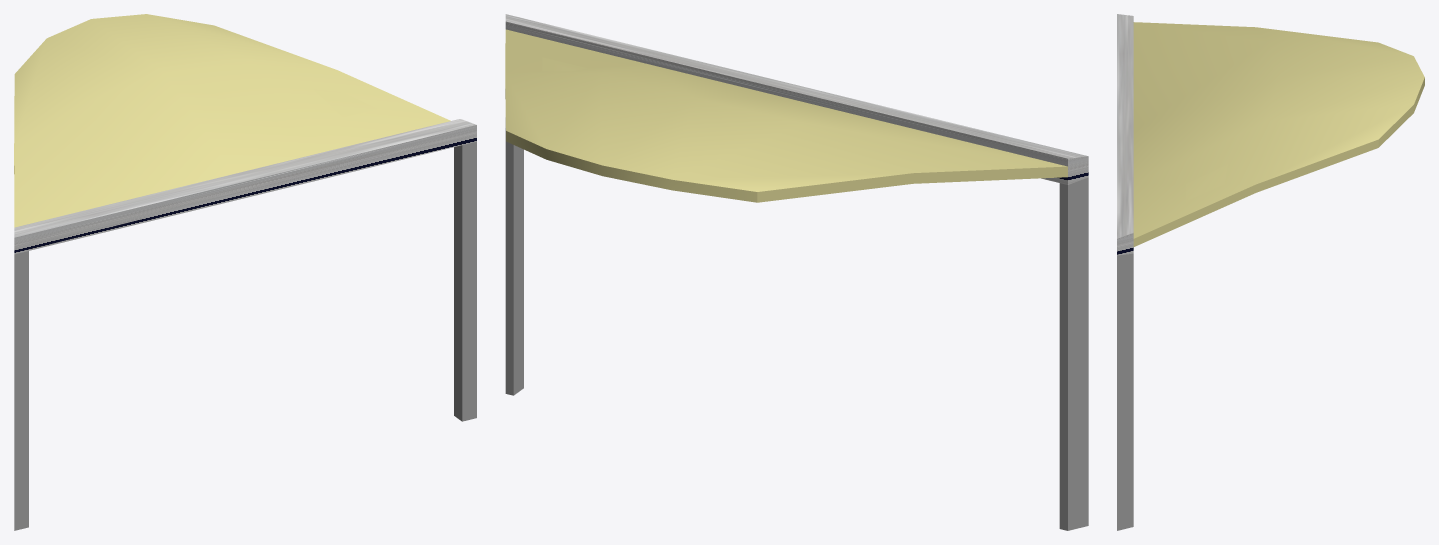
File: Museum_Hex_Roof_Piece_01_Art.fbx
3 renders of one model, left to right at view 1: azimuth 30°, elevation 25°; view 2: azimuth 150°, elevation 25°; view 3: azimuth 270°, elevation 25°, orthographic. The views are drawn at different scales.
Parts seen in each view (by area): view 1: Museum_Hex_Roof_Piece_01; view 2: Museum_Hex_Roof_Piece_01; view 3: Museum_Hex_Roof_Piece_01.
Boxes of the visible parts, <box> form: Museum_Hex_Roof_Piece_01: <box>14,14,476,530</box>; Museum_Hex_Roof_Piece_01: <box>505,14,1088,530</box>; Museum_Hex_Roof_Piece_01: <box>1117,14,1424,530</box>.
Bounding box in the file's own units: 703 × 498 × 407.
Materials: 3 (1 with a texture image).
